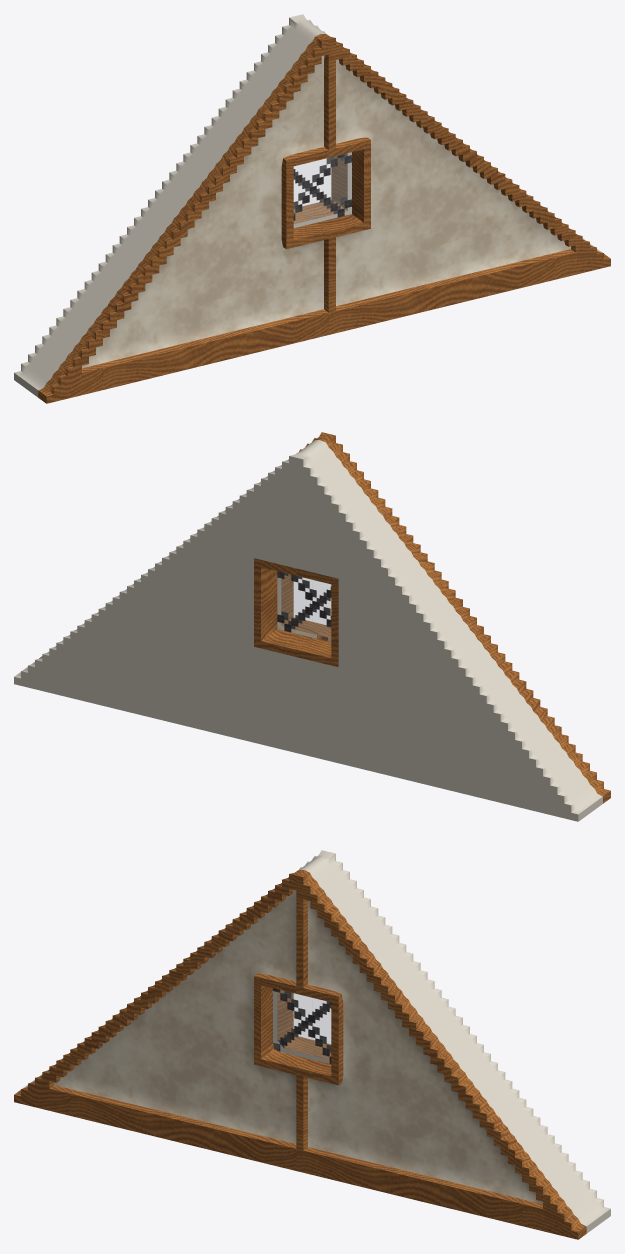
Rendered from roof_attic_gable_timber.glb.
3 views of the same model, one above another, from view 1: azimuth 30°, elevation 25°; view 2: azimuth 150°, elevation 25°; view 3: azimuth 330°, elevation 25° (orthographic).
Visible parts, largest first — view 1: town_roof_attic_gable_timber; view 2: town_roof_attic_gable_timber; view 3: town_roof_attic_gable_timber.
Boxes of the visible parts, box(x1,y1,x2,y2) form: town_roof_attic_gable_timber: box(14, 14, 610, 403); town_roof_attic_gable_timber: box(14, 432, 610, 821); town_roof_attic_gable_timber: box(14, 850, 610, 1239).
Size of the model in its own units: 2.5 by 1.25 by 0.25.
Materials: 3 (1 with a texture image).
